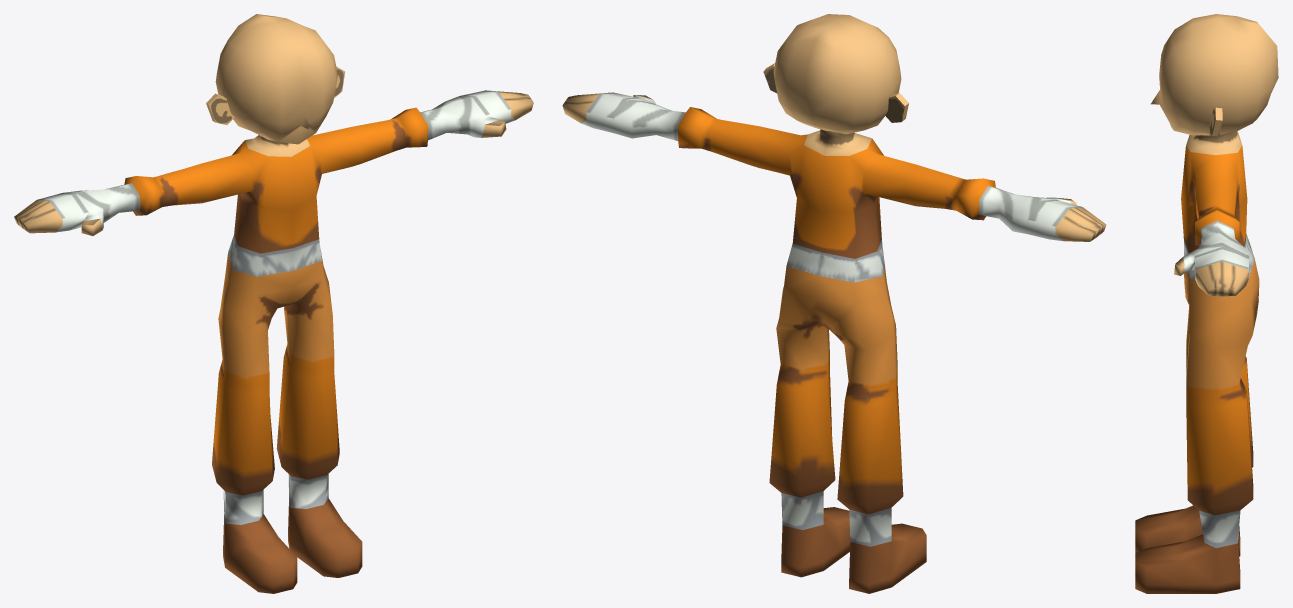
Rendered from Kazama.fbx.
The picture shows the model from 3 angles, left to right: view 1: azimuth 30°, elevation 25°; view 2: azimuth 150°, elevation 25°; view 3: azimuth 270°, elevation 25°; orthographic projection. The views are drawn at different scales.
Parts seen in each view (by area): view 1: Cube; view 2: Cube; view 3: Cube.
Boxes of the visible parts, left/top/right/bottom form: Cube: left=14, top=14, right=533, bottom=593; Cube: left=562, top=14, right=1106, bottom=593; Cube: left=1135, top=14, right=1278, bottom=593.
Bounding box in the file's own units: 690 × 689 × 163.
